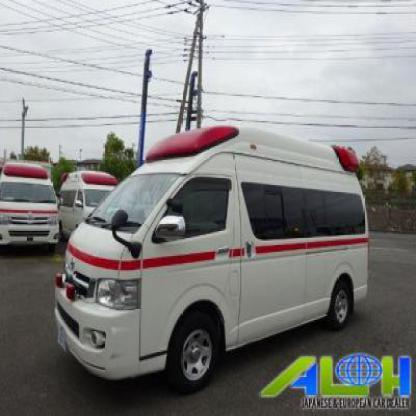Ambulance - v1 Ambulance last generate: (52, 123, 380, 390), (0, 159, 62, 244), (58, 173, 115, 226)
